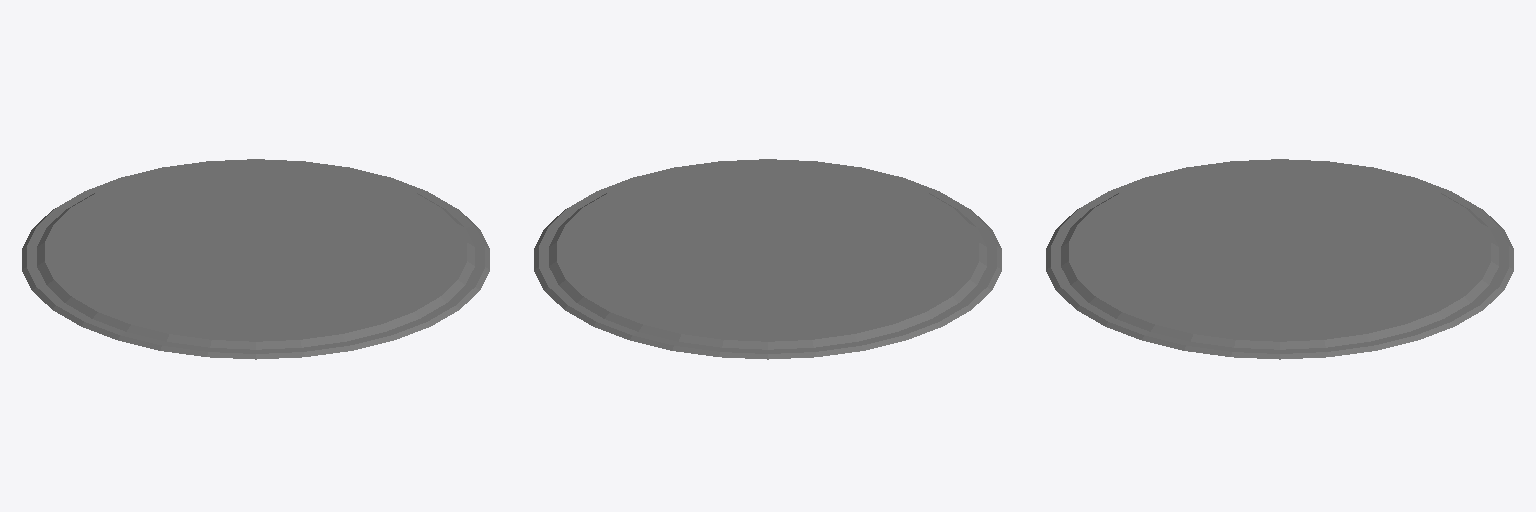
Rendered from HubBrazier.obj.
The picture shows the model from 3 angles: view 1: azimuth 30°, elevation 25°; view 2: azimuth 150°, elevation 25°; view 3: azimuth 270°, elevation 25°; orthographic projection.
Visible parts, largest first — view 1: CenterBrazier; view 2: CenterBrazier; view 3: CenterBrazier.
Part boxes in pixels (x1,y1,x2,y2): CenterBrazier: (22,159,489,359); CenterBrazier: (534,159,1001,359); CenterBrazier: (1046,159,1513,359).
Size of the model in its own units: 0.7268 by 0.0137 by 0.7229.